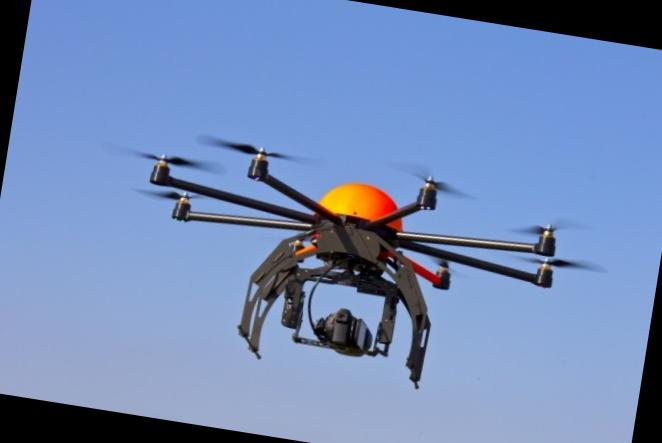drone: (89, 108, 606, 349)
